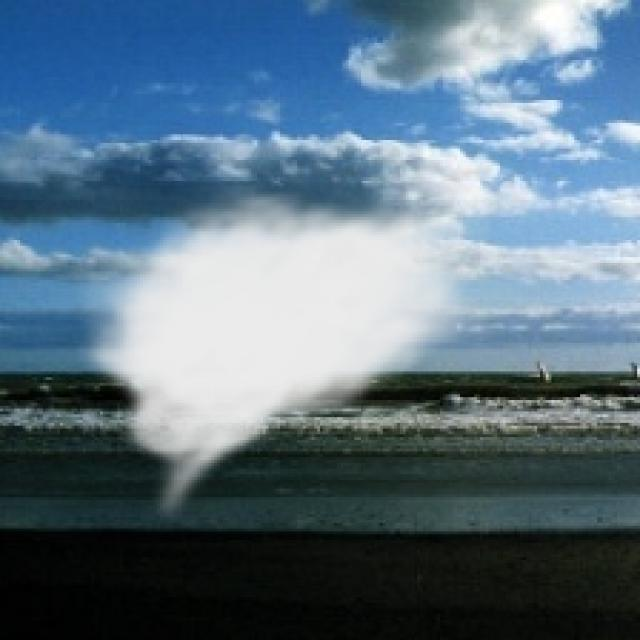smoke: (72, 183, 494, 526)
